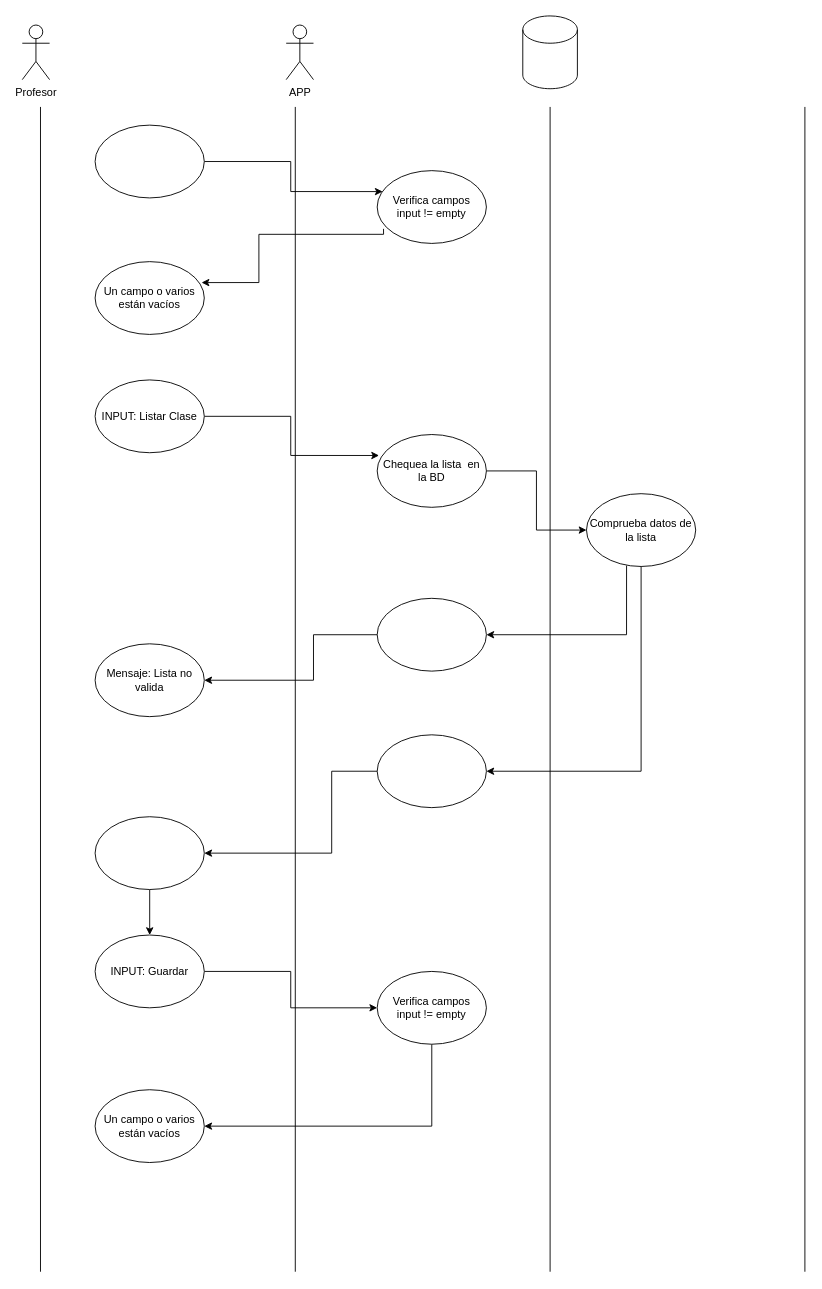
This 822x1289 diagram has some shape labels left out. The box of each missing label's shape, as (x1, y1, x2, y2) in pixels:
bd: (522, 15, 577, 89)
Chequea: Fecha, Hora: (94, 816, 204, 890)
INPUT: DNI, Password: (94, 124, 204, 198)
Mensaje de BD: Lista Erronea: (376, 597, 486, 671)
Mensaje de BD: Lista valida: (376, 734, 486, 808)
